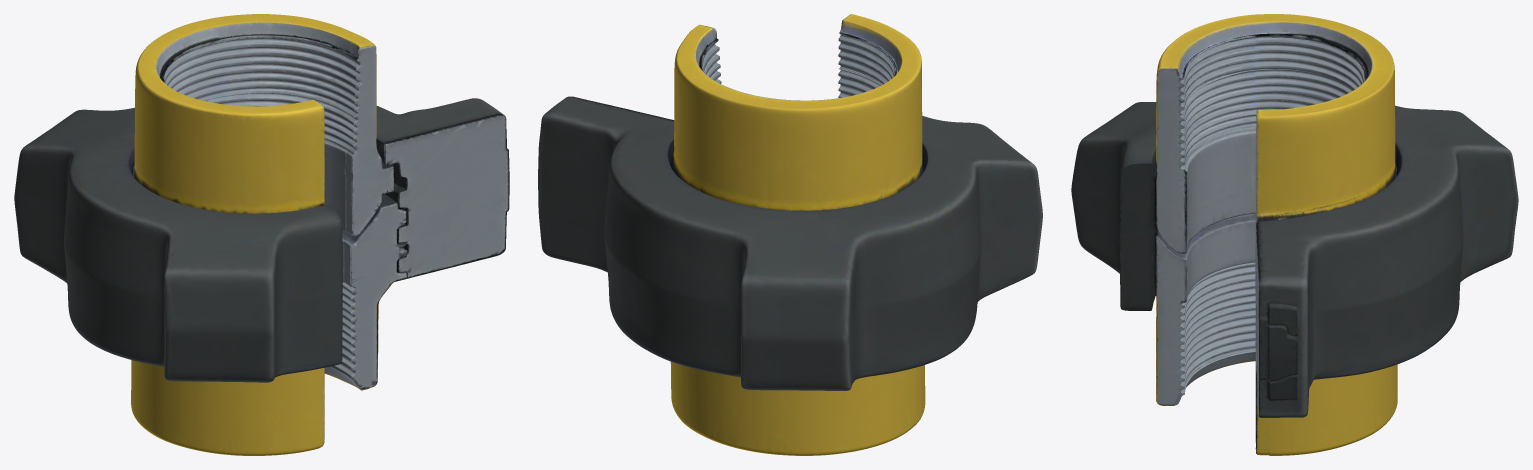
File: UnionDeGolpeFigura100.glb
3 views of the same model, side by side, from view 1: azimuth 30°, elevation 25°; view 2: azimuth 150°, elevation 25°; view 3: azimuth 270°, elevation 25° (orthographic). The views are drawn at different scales.
Visible parts, largest first — view 1: tripo_node_ab1cccfa-4de3-43f5-a7a6-094f881eeacb; view 2: tripo_node_ab1cccfa-4de3-43f5-a7a6-094f881eeacb; view 3: tripo_node_ab1cccfa-4de3-43f5-a7a6-094f881eeacb.
Boxes of the visible parts, <box> form: tripo_node_ab1cccfa-4de3-43f5-a7a6-094f881eeacb: <box>14,14,509,455</box>; tripo_node_ab1cccfa-4de3-43f5-a7a6-094f881eeacb: <box>538,14,1042,455</box>; tripo_node_ab1cccfa-4de3-43f5-a7a6-094f881eeacb: <box>1071,14,1518,455</box>.
Size of the model in its own units: 0.9797 by 0.7727 by 0.9218.
Materials: 1 (1 with a texture image).
